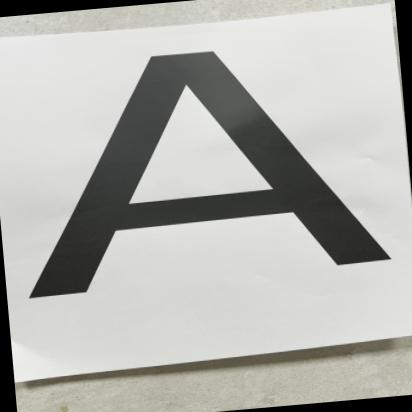seat: (2, 7, 412, 312)
